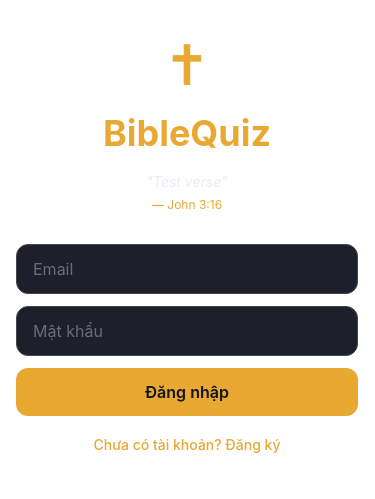
Scenario: LoginScreen › shows error when password is empty
Step 1. Type "test@test.com" into the field with placeholder "Email" → (187, 269), box [16, 244, 358, 294]
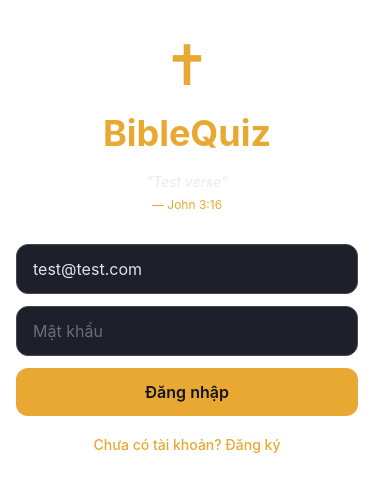
Step 2. Click the text "Đăng nhập" → (187, 392), box [145, 382, 229, 402]
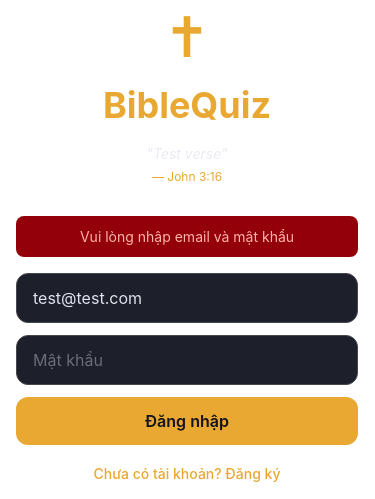
expect the text "Vui lòng nhập email và mật khẩu" is shown: met, box [80, 228, 294, 244]
